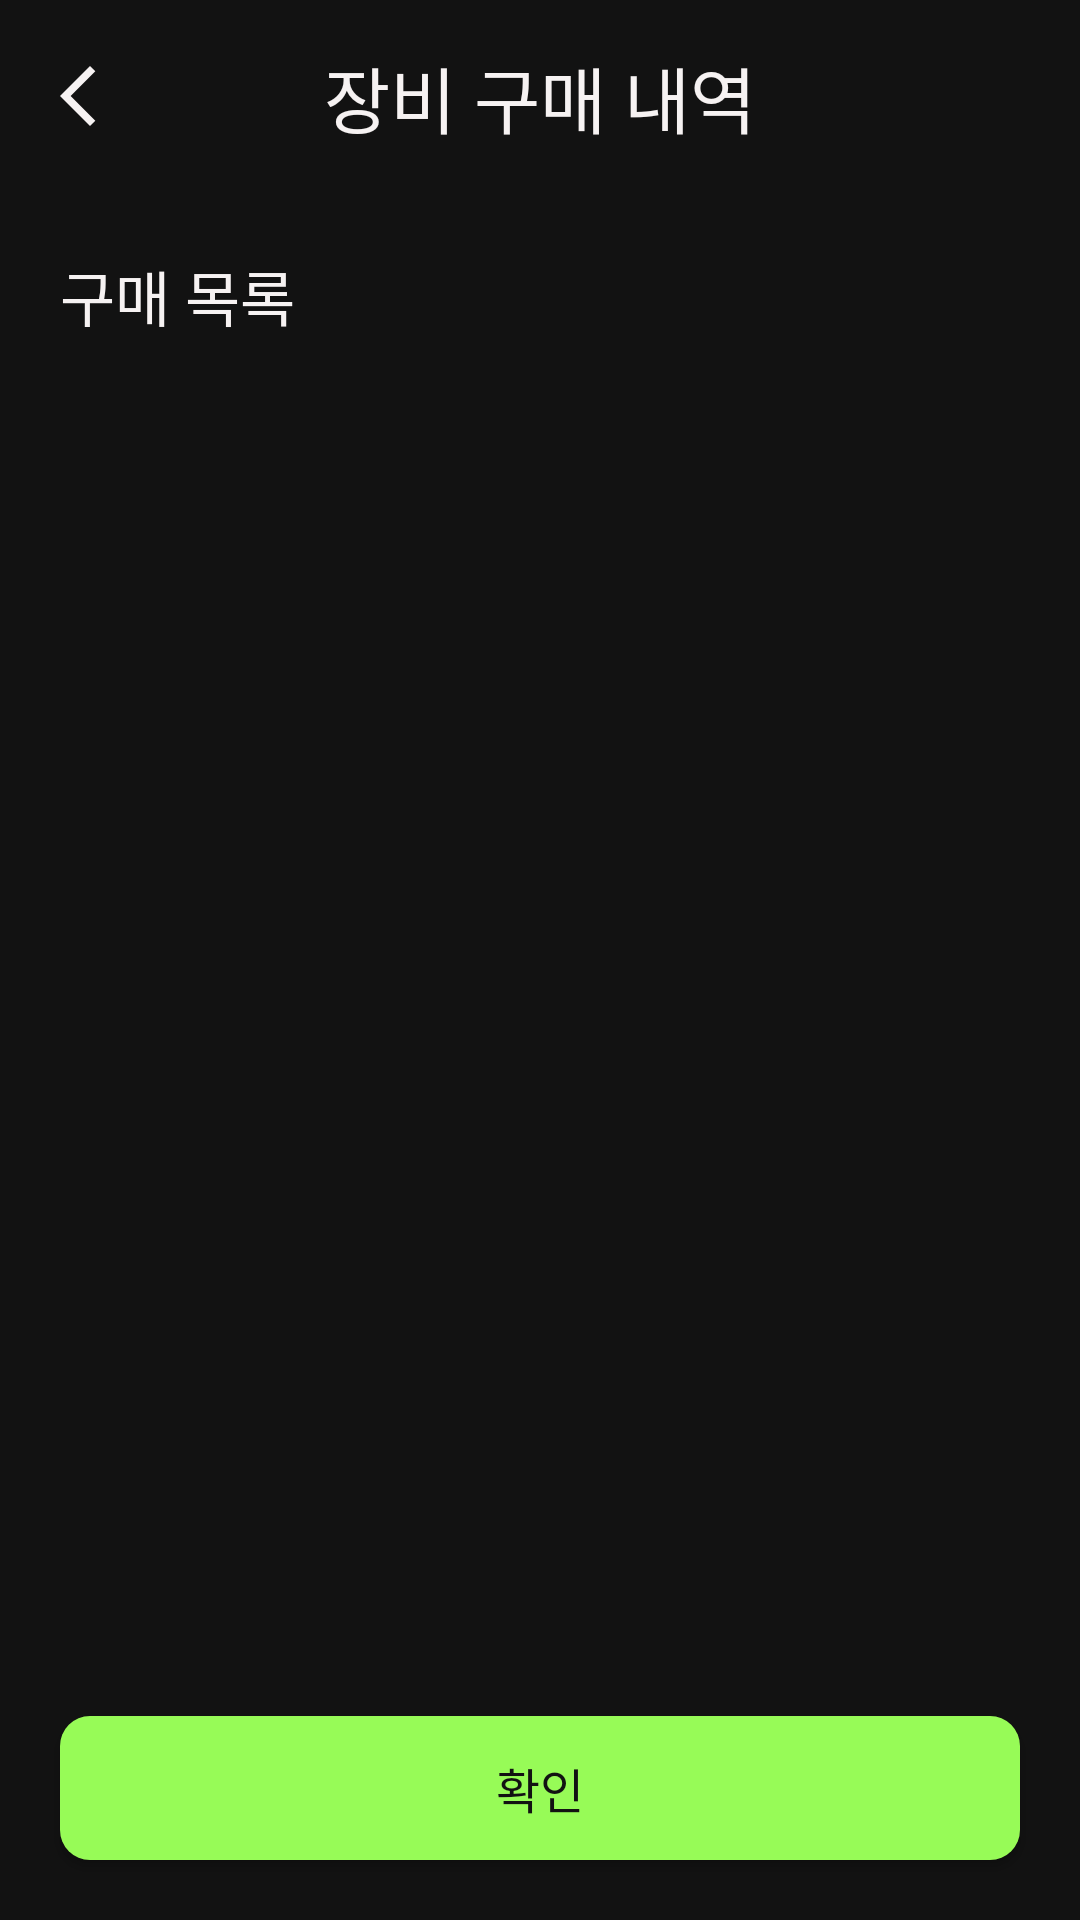

Locate icon controls on the screen. Image size 1080 × 1920, boxes as [left=x1, top=y1, right=x2, bottom=y2].
back: [left=60, top=66, right=95, bottom=126]
